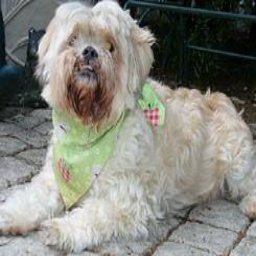dog: (10, 4, 254, 242)
